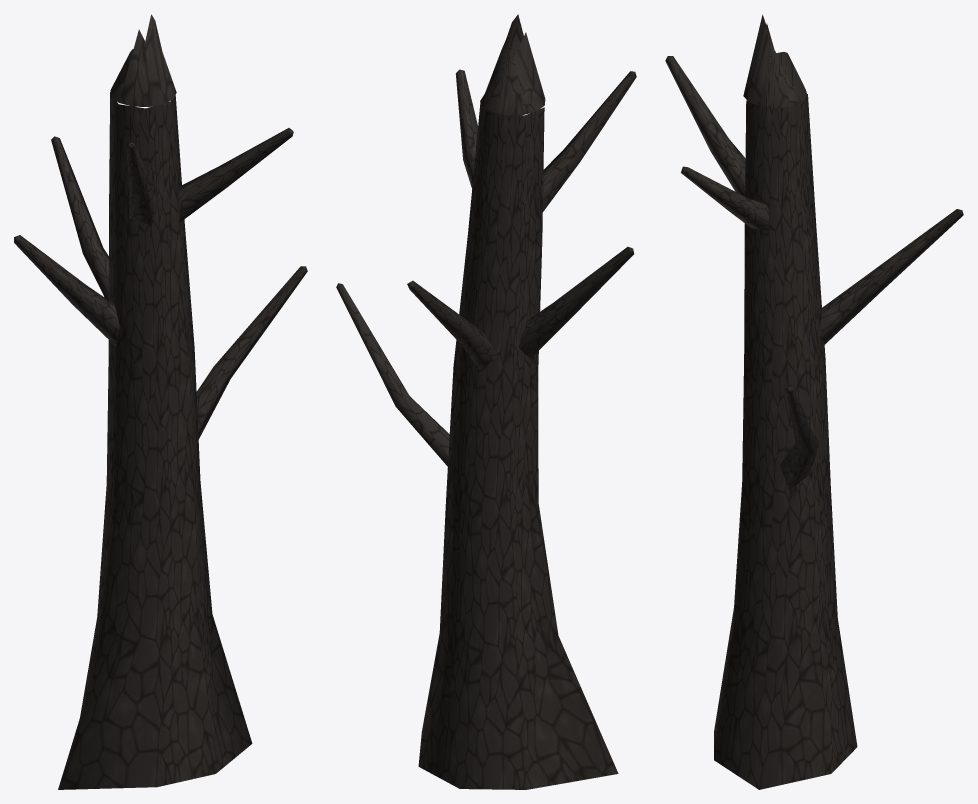
Rendered from burnt_tree_lod.glb.
The picture shows the model from 3 angles, left to right: view 1: azimuth 30°, elevation 25°; view 2: azimuth 150°, elevation 25°; view 3: azimuth 270°, elevation 25°; orthographic projection. The views are drawn at different scales.
Parts seen in each view (by area): view 1: burnt_tree_lod; view 2: burnt_tree_lod; view 3: burnt_tree_lod.
Part boxes in pixels (bbox=[...]): burnt_tree_lod: bbox=[14, 14, 307, 789]; burnt_tree_lod: bbox=[336, 14, 636, 789]; burnt_tree_lod: bbox=[665, 14, 963, 789].
Bounding box in the file's own units: 2.57 × 6.2 × 2.3.
1 material, 1 textured.
